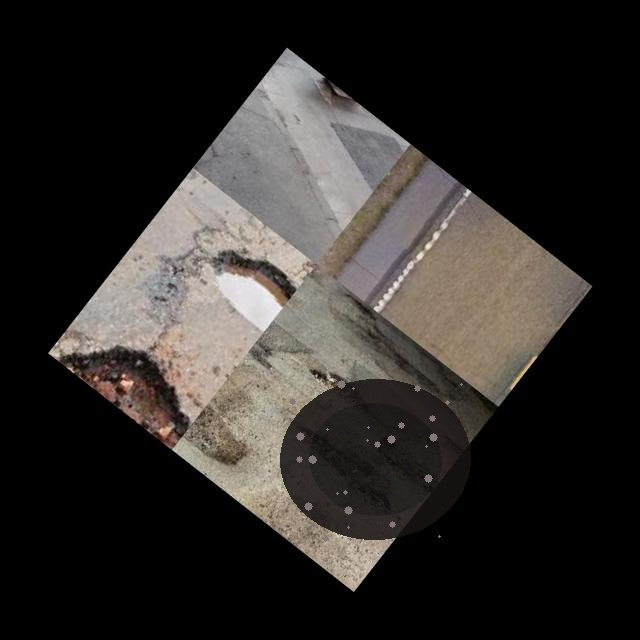pothole: (275, 374, 475, 544)
